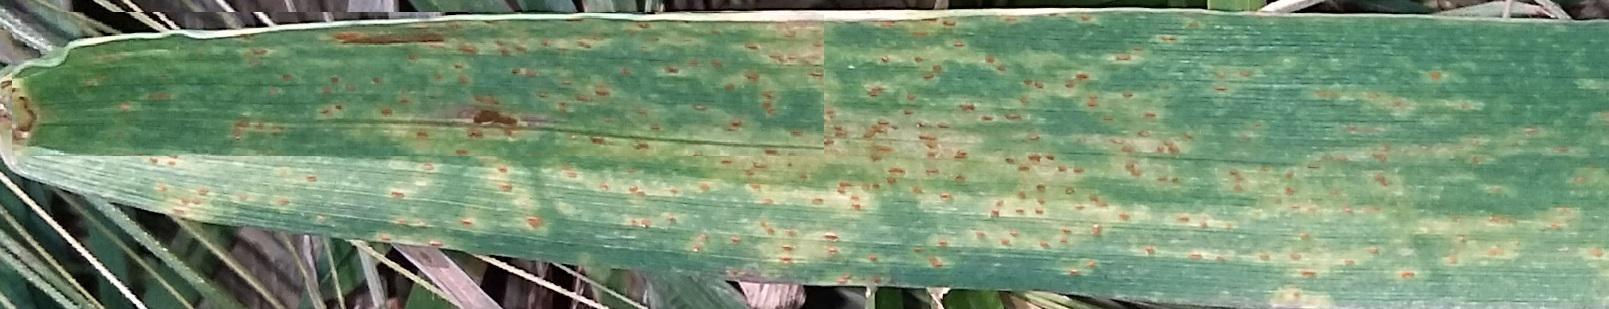Wheat: (222, 36, 923, 277), (893, 34, 1202, 279)
